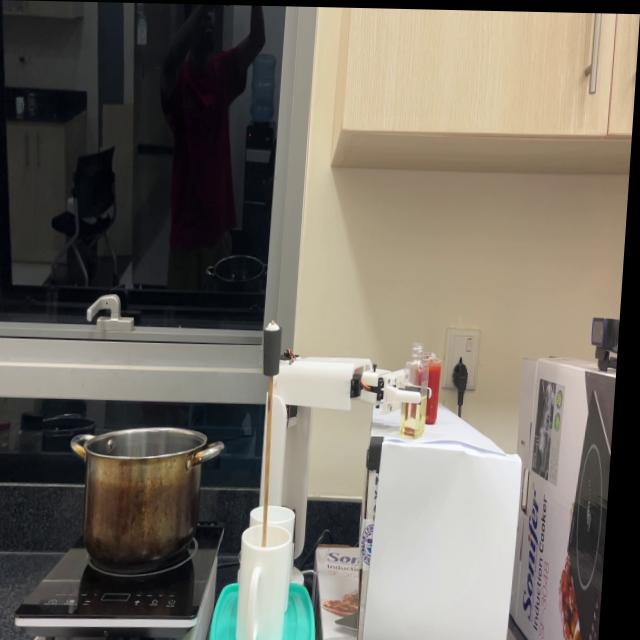blended_tomatoes_pepper: (431, 358, 451, 422)
cooking_pot: (72, 426, 231, 561)
oil: (411, 384, 433, 434)
spatula: (261, 340, 288, 548)
